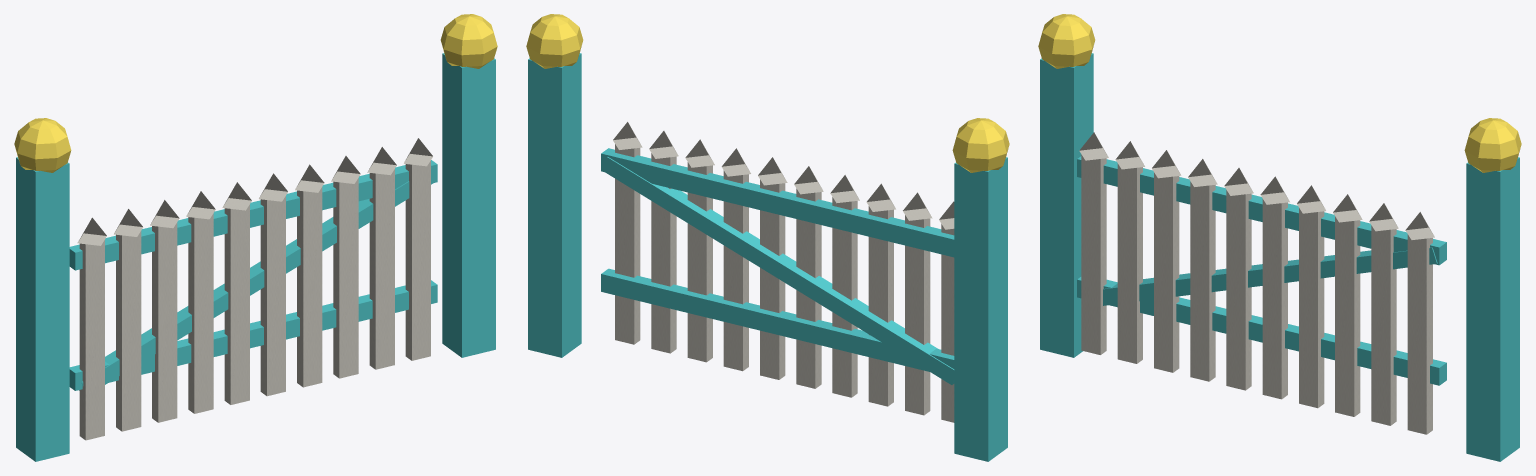
File: theme-park-rides-and-coasters-theme-park-rides-and-coa-db3695a3__28713.glb
3 renders of one model, left to right at view 1: azimuth 30°, elevation 25°; view 2: azimuth 150°, elevation 25°; view 3: azimuth 330°, elevation 25°, orthographic.
Parts seen in each view (by area): view 1: gate-park/cream, theme-park-rides-and-coasters-fence-gate, gate-park/teal; view 2: gate-park/cream, theme-park-rides-and-coasters-fence-gate, gate-park/teal; view 3: gate-park/cream, theme-park-rides-and-coasters-fence-gate, gate-park/teal.
Boxes of the visible parts, x1,y1,x2,y2 form: gate-park/cream: (77,138,432,440); theme-park-rides-and-coasters-fence-gate: (14,14,497,461); gate-park/teal: (69,160,437,390); gate-park/cream: (613,122,954,422); theme-park-rides-and-coasters-fence-gate: (526,14,1009,461); gate-park/teal: (601,148,954,384); gate-park/cream: (1079,132,1434,434); theme-park-rides-and-coasters-fence-gate: (1038,14,1521,461); gate-park/teal: (1077,156,1446,385).
Bounding box in the file's own units: 2.24 × 1.48 × 0.2801.
3 materials, 1 textured.
